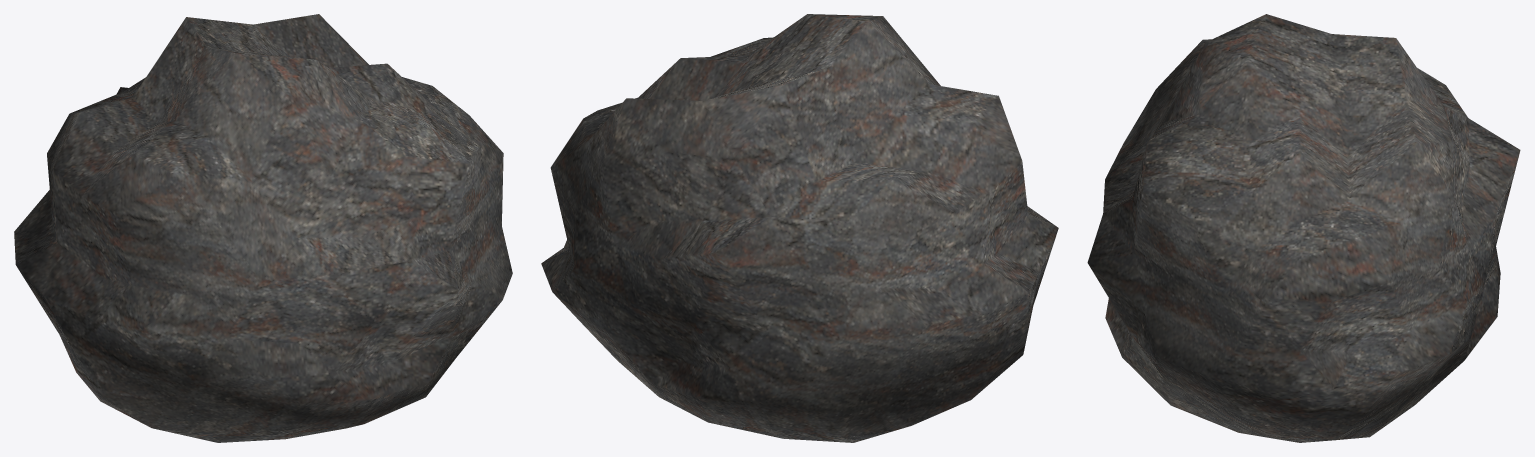
Rendered from SM_HarvestRock_Intact.fbx.
3 renders of one model, left to right at view 1: azimuth 30°, elevation 25°; view 2: azimuth 150°, elevation 25°; view 3: azimuth 270°, elevation 25°, orthographic. The views are drawn at different scales.
Visible parts, largest first — view 1: SM_HarvestRock_Intact; view 2: SM_HarvestRock_Intact; view 3: SM_HarvestRock_Intact.
Part boxes in pixels (box(x1,y1,x2,y2)): SM_HarvestRock_Intact: box(14, 14, 512, 442); SM_HarvestRock_Intact: box(541, 14, 1058, 442); SM_HarvestRock_Intact: box(1087, 14, 1520, 442).
Bounding box in the file's own units: 181 × 159 × 148.
Materials: 2 (2 with a texture image).
